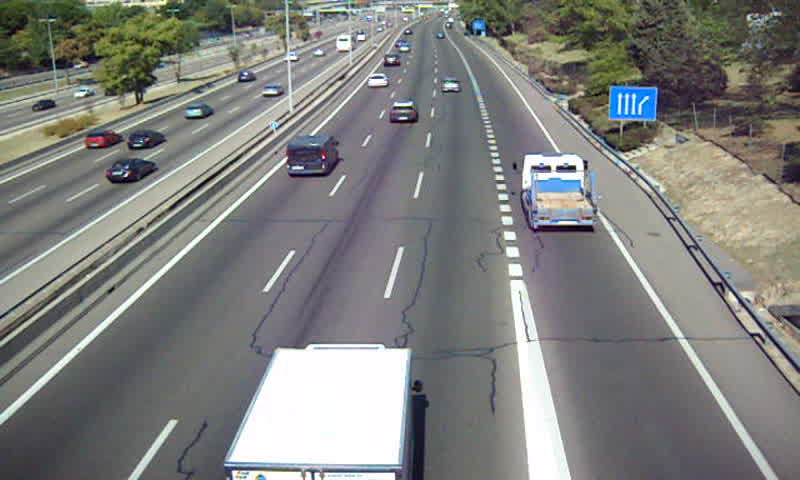car: (389, 100, 417, 124), (441, 78, 462, 96), (365, 73, 388, 89), (382, 52, 401, 68)
small-truck: (223, 345, 413, 480), (523, 152, 598, 228)
van: (283, 136, 339, 175)
